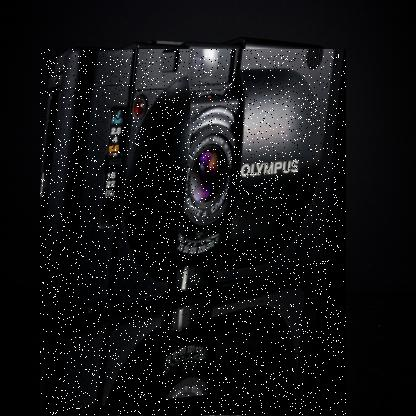Camera: (41, 50, 348, 416)
